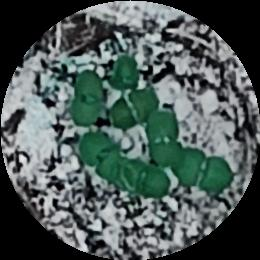Basil: (71, 134, 130, 182), (174, 149, 232, 189), (68, 65, 105, 125), (126, 156, 172, 201), (145, 115, 182, 170), (110, 92, 155, 127), (108, 58, 145, 89)
